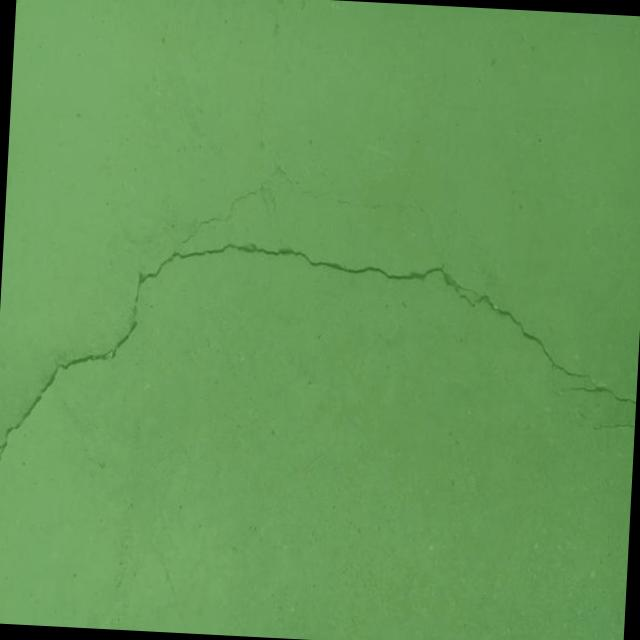crack: (0, 230, 597, 503), (274, 163, 437, 240), (196, 174, 269, 237), (560, 383, 637, 404), (595, 420, 635, 432)
